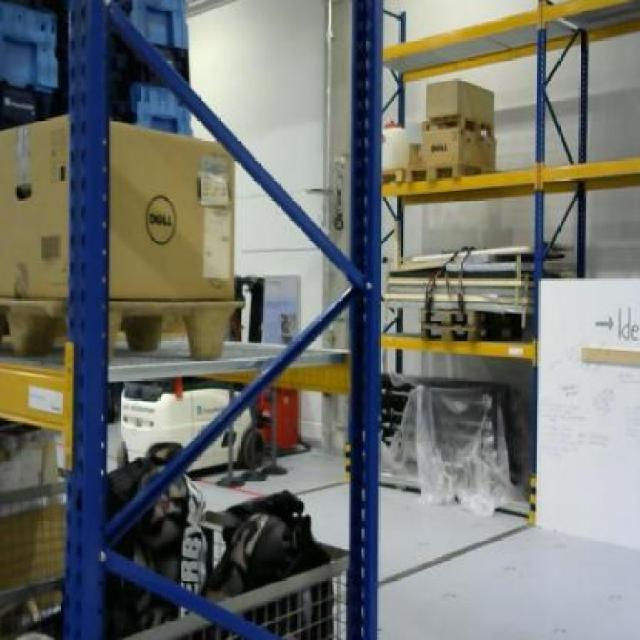box: (0, 111, 235, 297), (420, 78, 496, 126), (420, 130, 498, 172)
